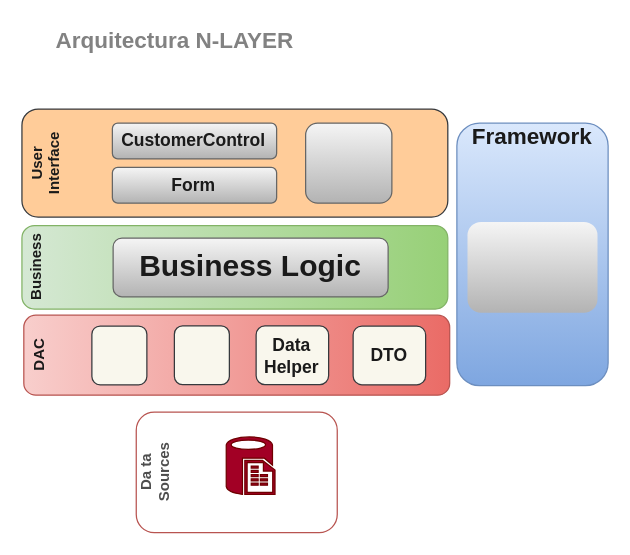
Image size: 630x555. Some labels were removed from this diagram. Each missing label, with the centre of its shape:
DAO: point (119, 355)
Group Three Exceptions: point (532, 266)
IDAO: point (201, 355)
Resource: point (348, 162)
SQLITE: point (250, 465)
